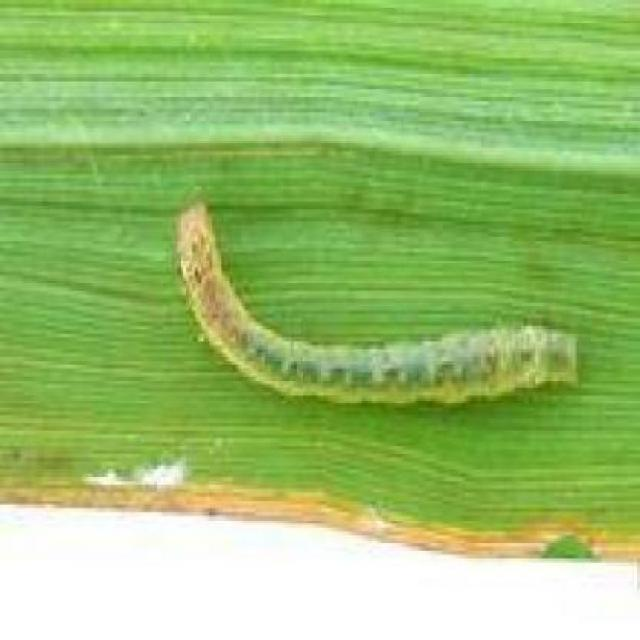leaf-folder: (157, 189, 591, 425)
